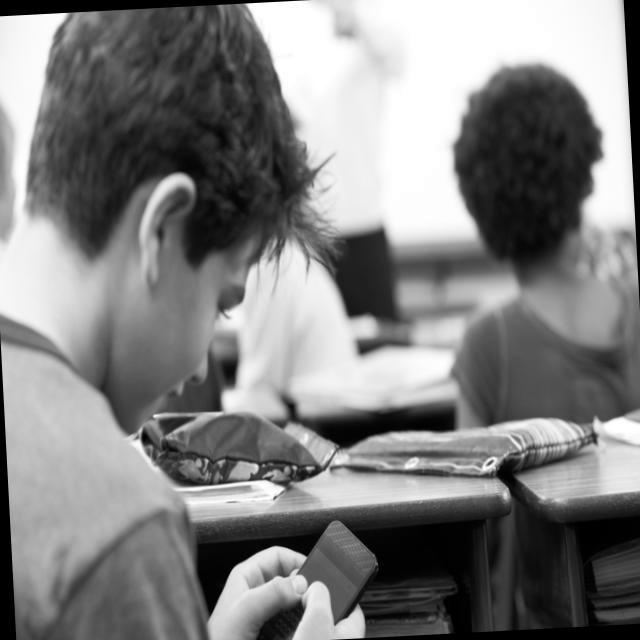phone: (249, 516, 383, 640)
